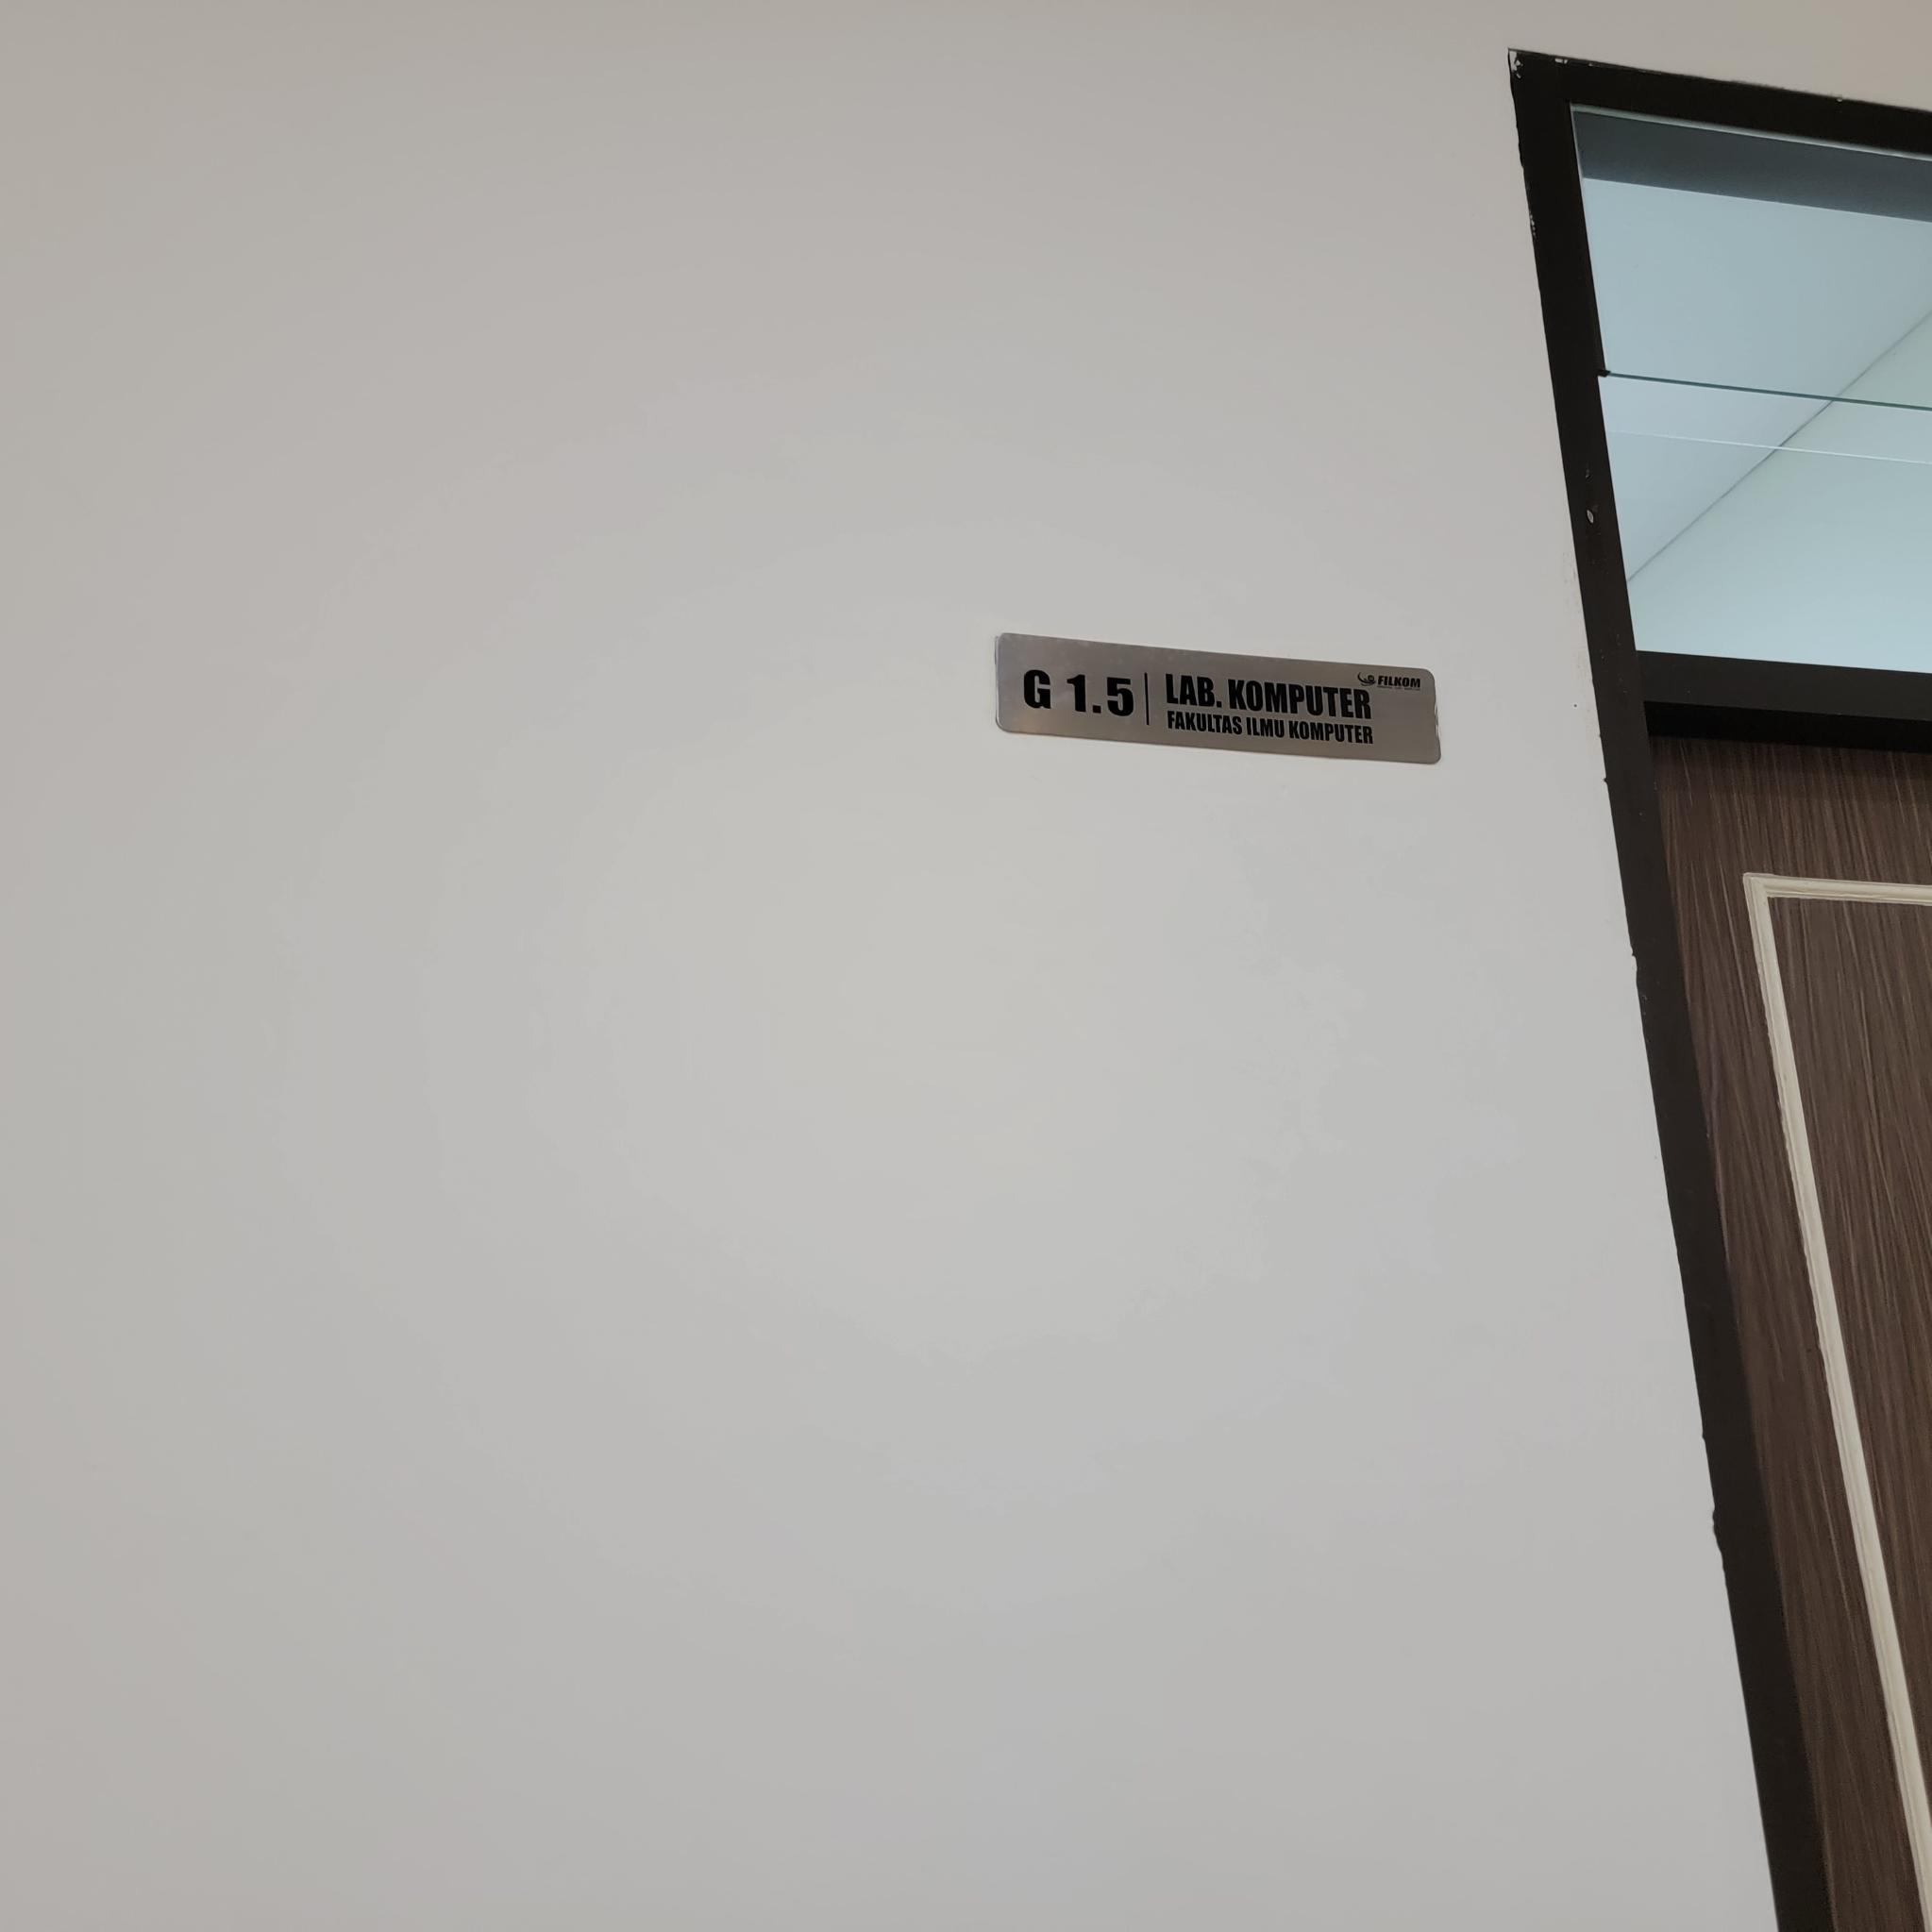plate: (998, 630, 1442, 766)
